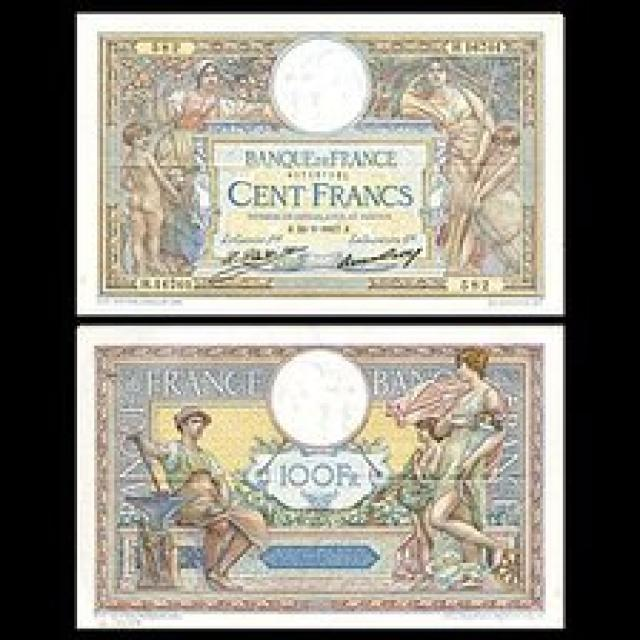banknote: (78, 323, 565, 619), (78, 17, 565, 308), (275, 459, 338, 494)
